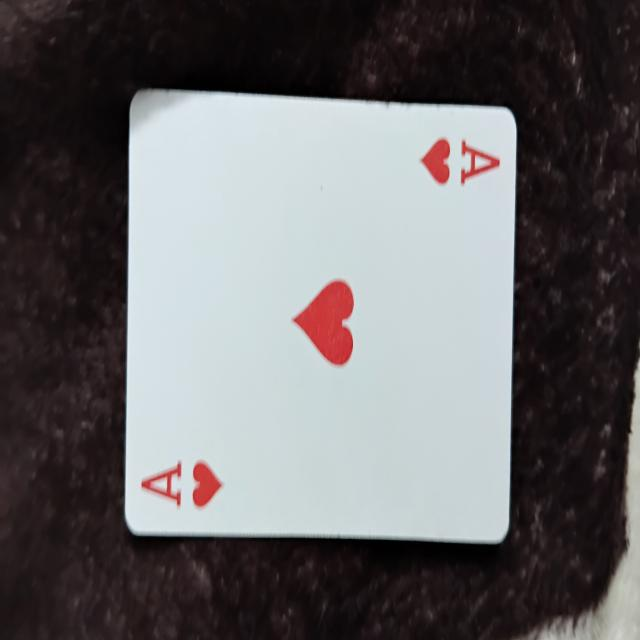AH: (128, 88, 510, 542)
